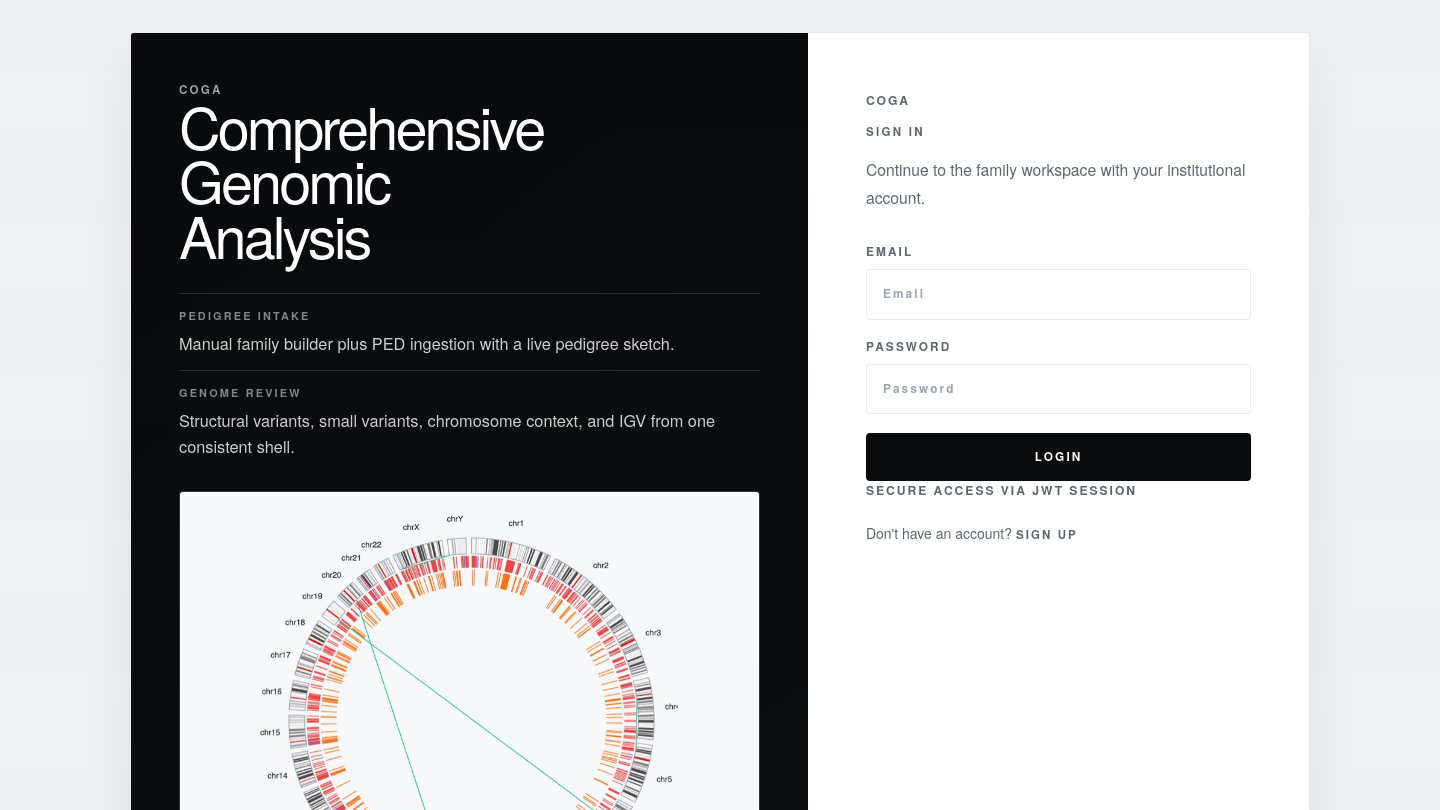
Test case: LoginPage › shows error message on failed login
Type "admin@example.com" into the field with placeholder "Email".
click(1059, 294); type("admin@example.com")  # box [866,269,1251,320]
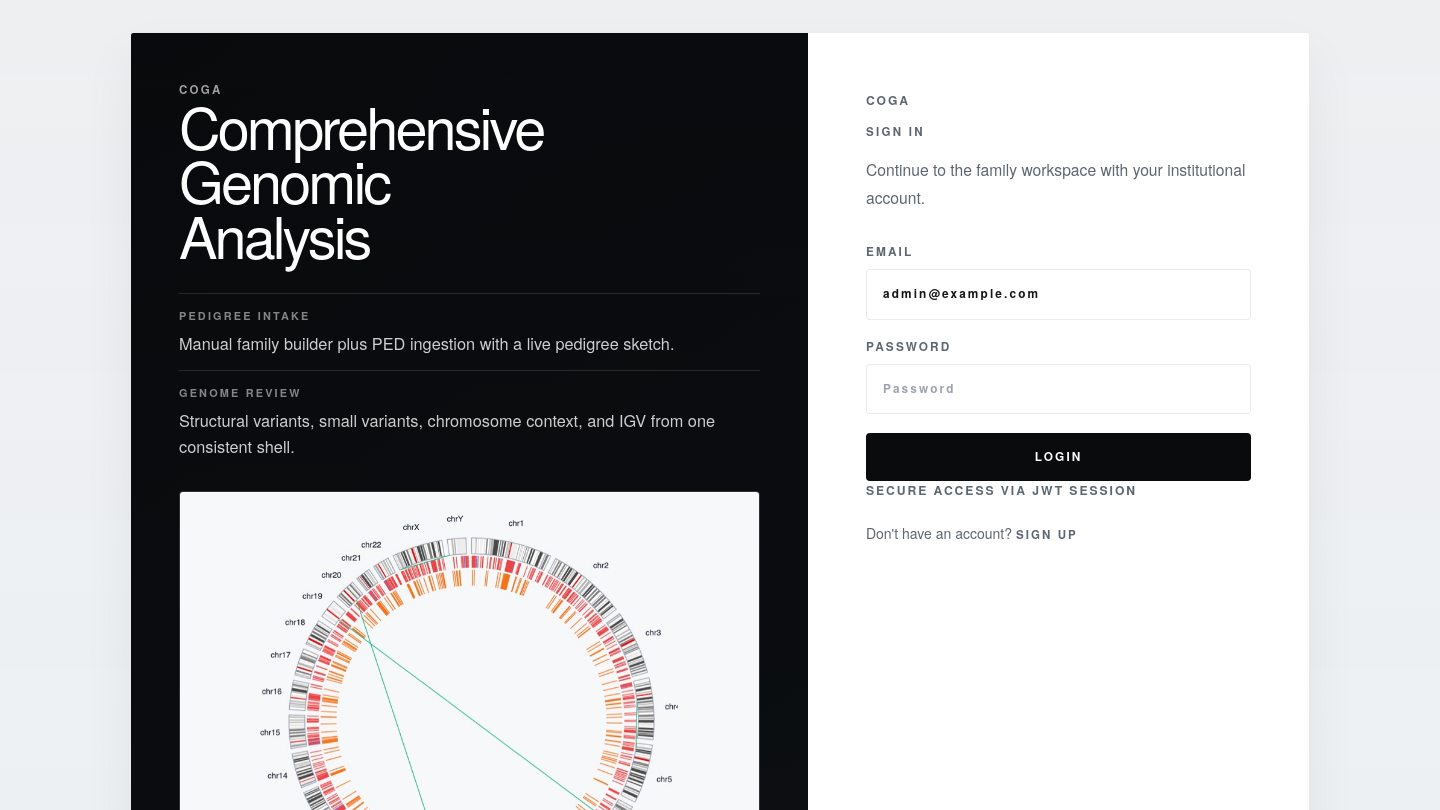
Type "wrong" into the password field with placeholder "Password".
click(1059, 389); type("wrong")  # box [866,364,1251,414]
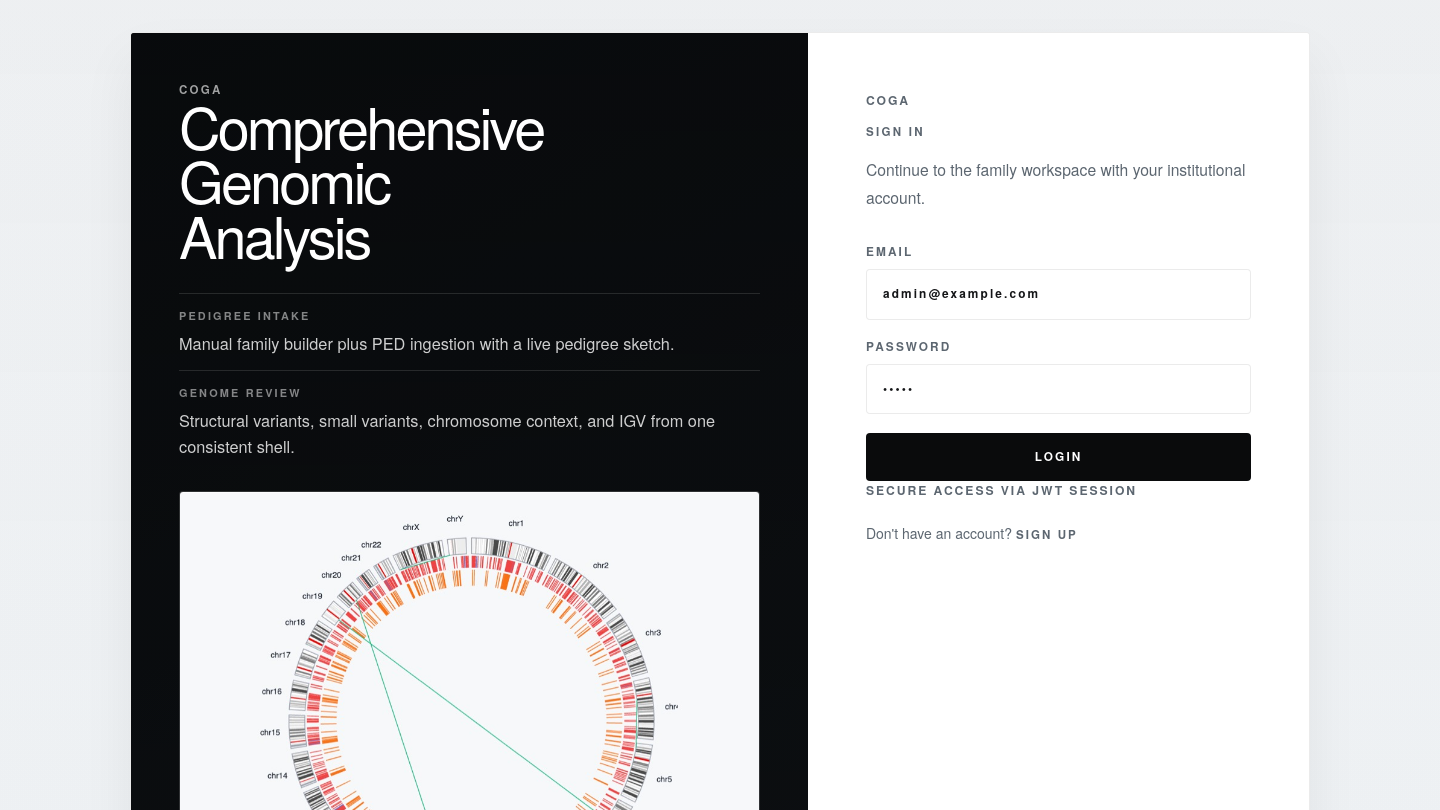
Click the button "Login".
click(1059, 457)  # box [866,433,1251,481]
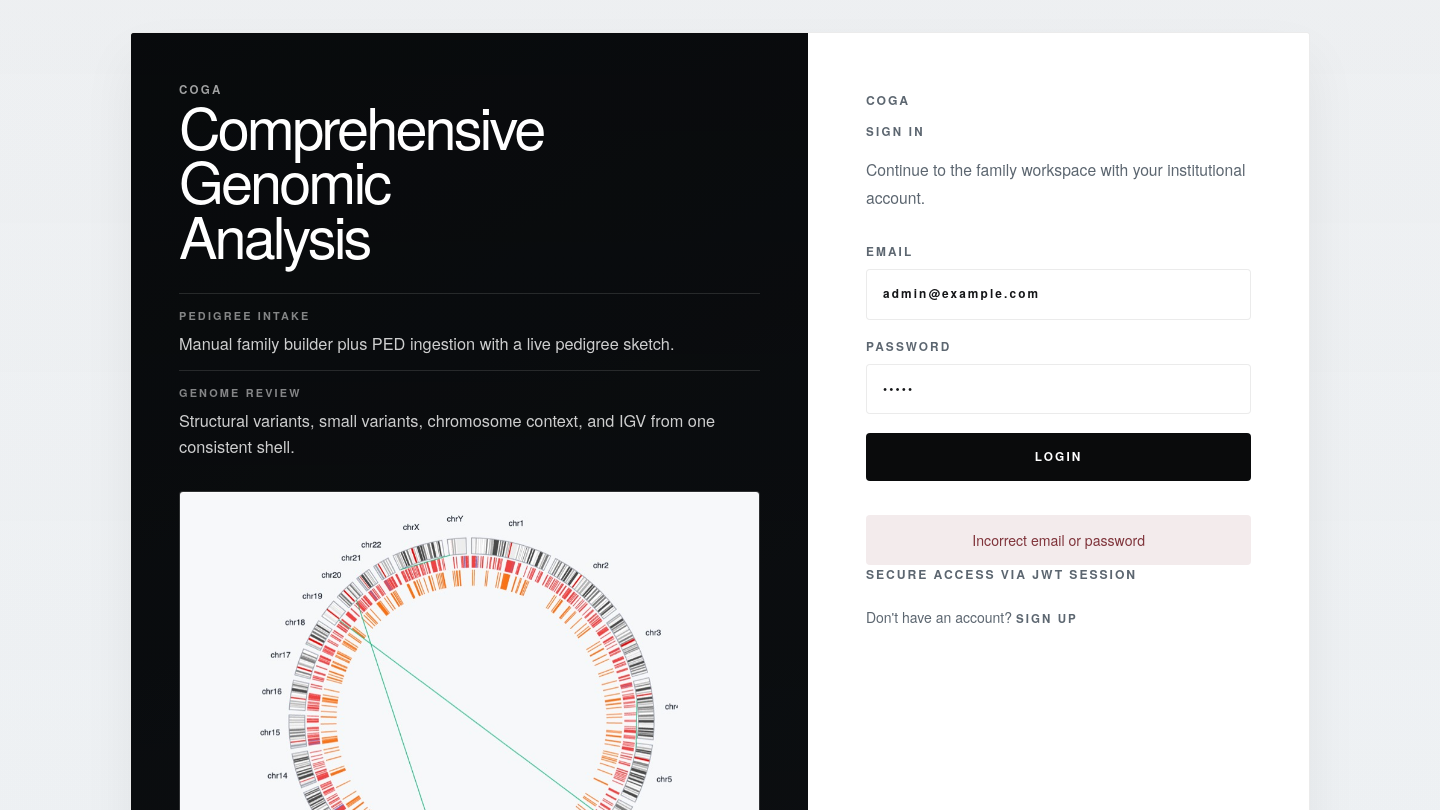
Now the text "Incorrect email or password" is shown, box [866,515,1251,565]
